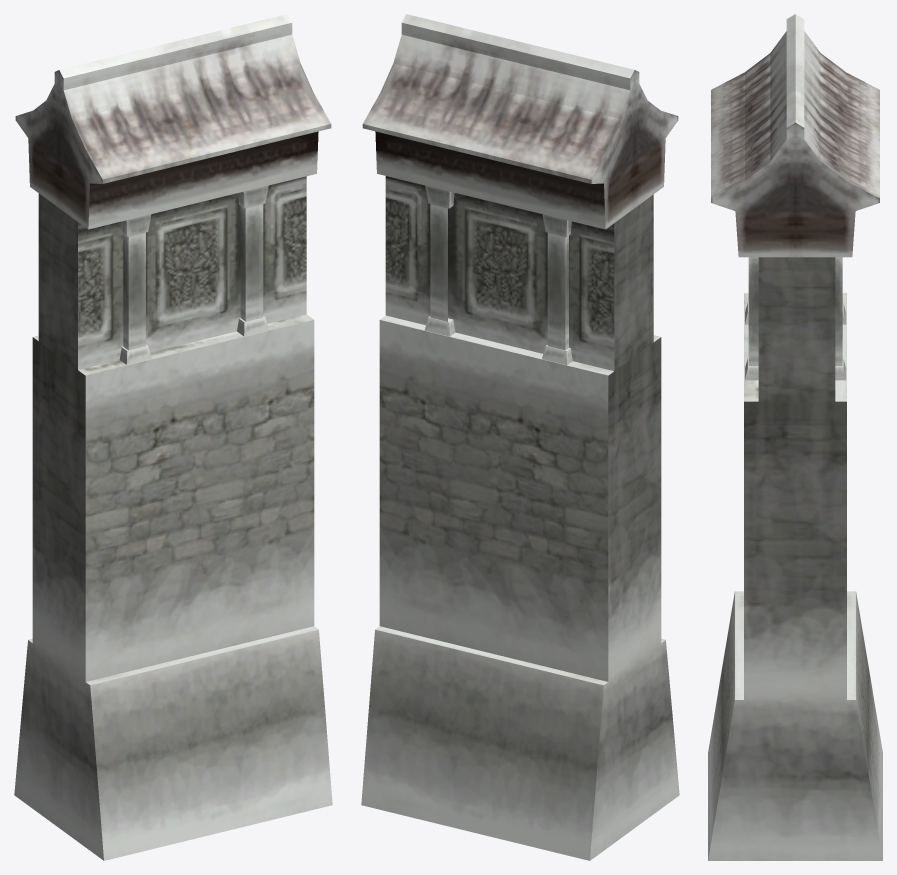
The model's file is snow-middledam-04.fbx.
3 renders of one model, left to right at view 1: azimuth 30°, elevation 25°; view 2: azimuth 150°, elevation 25°; view 3: azimuth 270°, elevation 25°, orthographic. The views are drawn at different scales.
Parts seen in each view (by area): view 1: snow-middledam-02; view 2: snow-middledam-02; view 3: snow-middledam-02.
Boxes of the visible parts, box(x1,y1,x2,y2) form: snow-middledam-02: box(14, 14, 332, 860); snow-middledam-02: box(361, 14, 679, 860); snow-middledam-02: box(708, 14, 882, 860).
Size of the model in its own units: 2.5 by 7.92 by 1.7.
